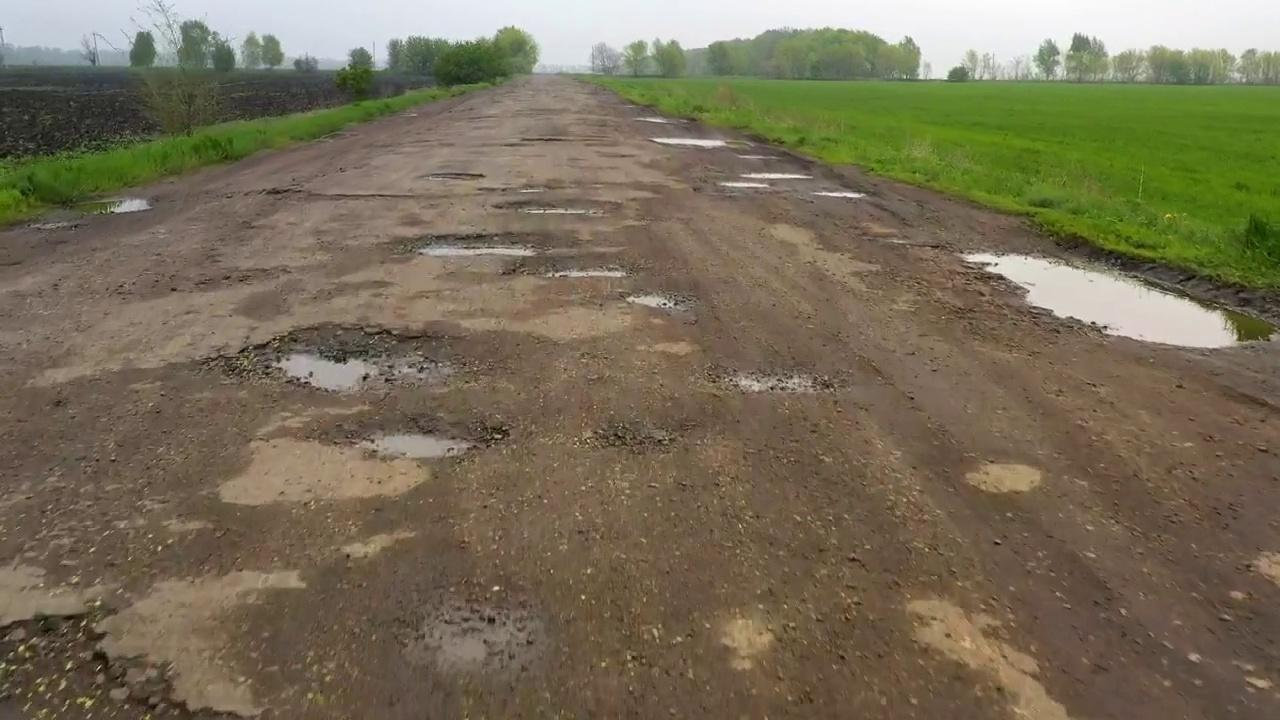bache: (962, 254, 1275, 347), (207, 326, 473, 392), (359, 413, 509, 460), (708, 371, 839, 393), (495, 198, 610, 215), (626, 294, 691, 318), (416, 244, 539, 256), (548, 269, 626, 277)
